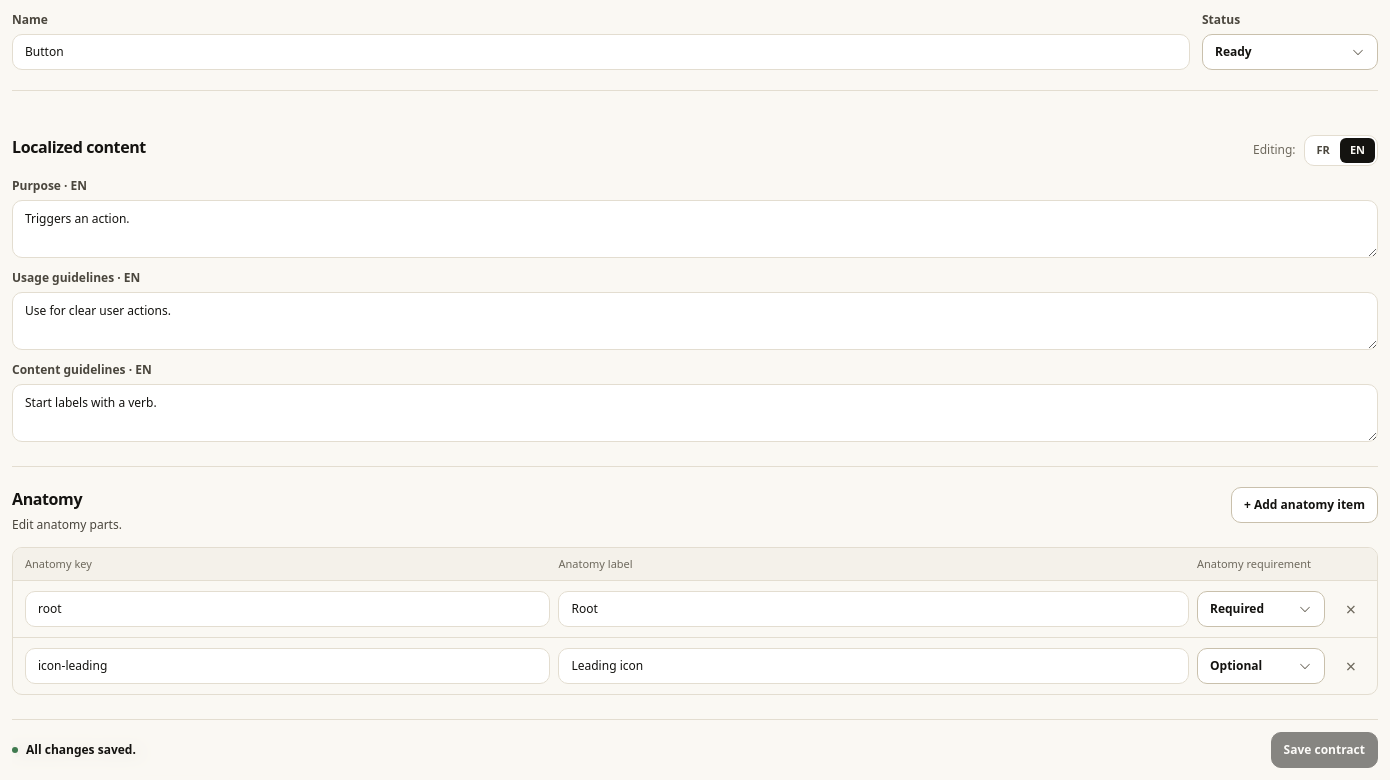
Test case: ComponentContractEditor › shows an unsaved notice after editing an anatomy requirement
Click the dropdown named "Anatomy requirement".
click(1261, 609)  # box [1197,591,1325,627]
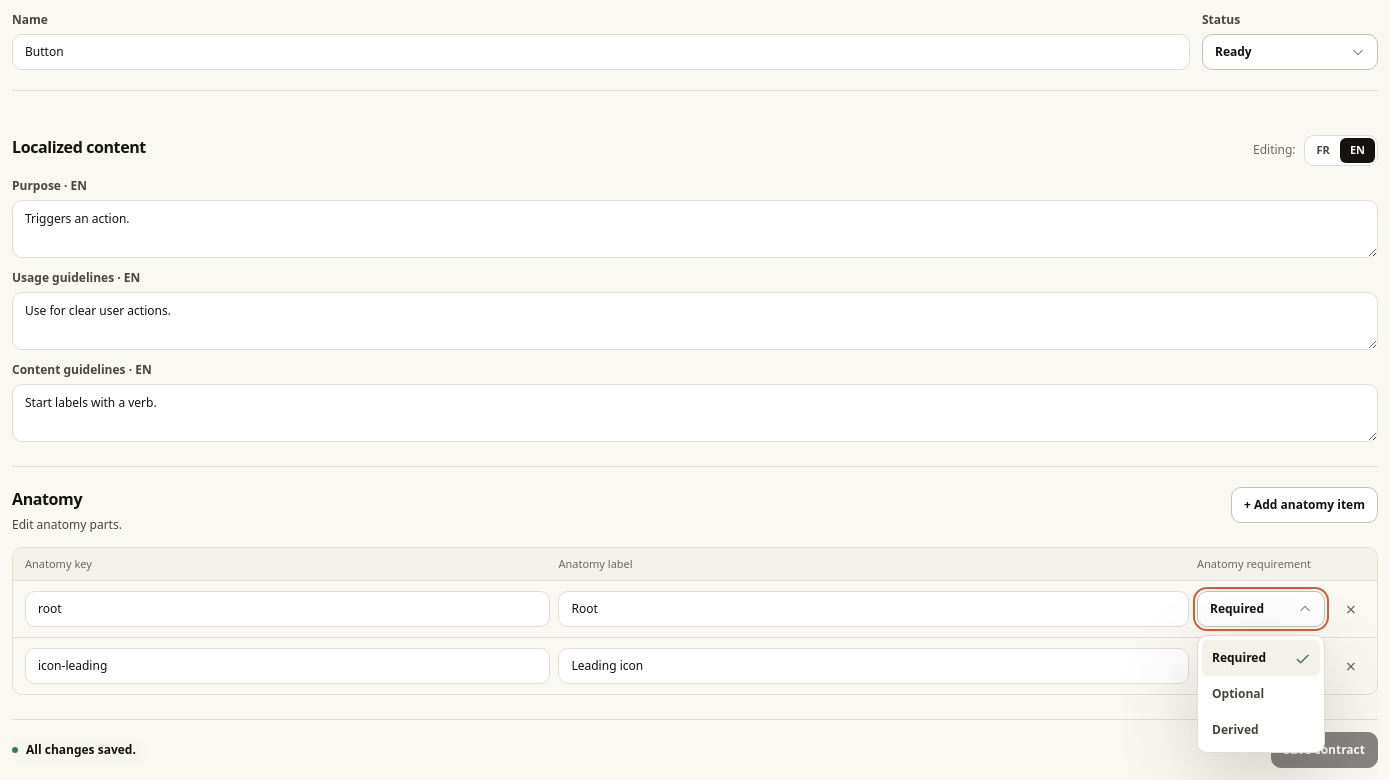
Click the option "Derived".
click(1261, 730)  # box [1202,712,1320,748]
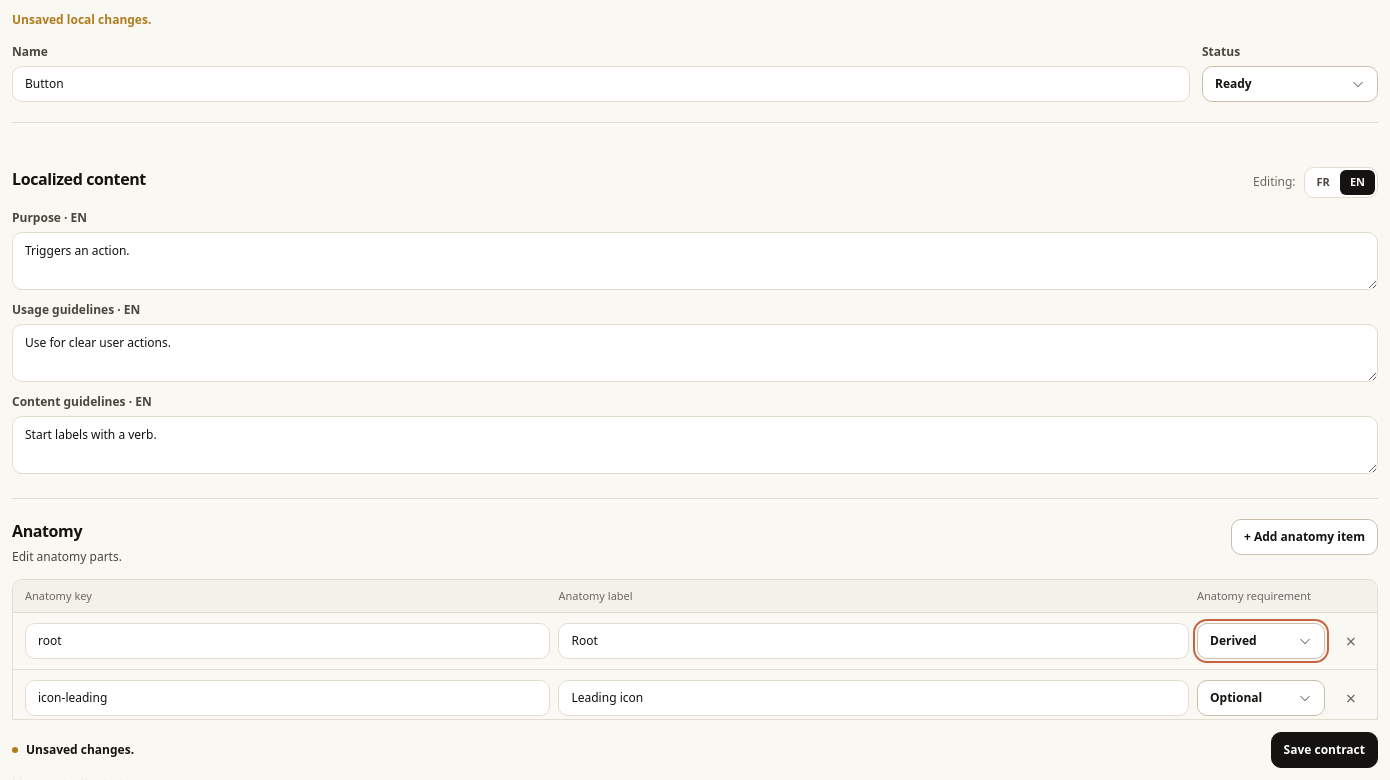
Check: the message reads "Unsaved local changes.", box [12,11,151,28]
